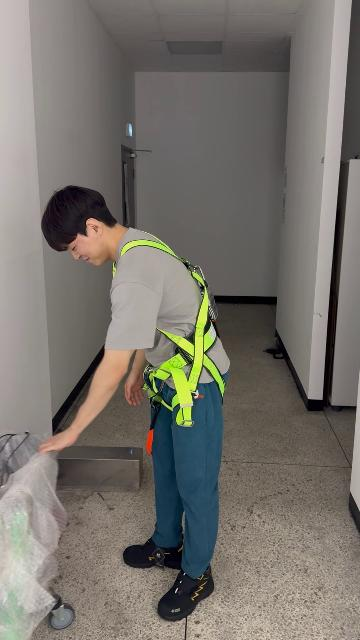helmet_not_worn: (40, 183, 116, 257)
shoe_worn: (157, 564, 214, 621), (123, 534, 183, 568)
vest_worn: (114, 237, 224, 417)
